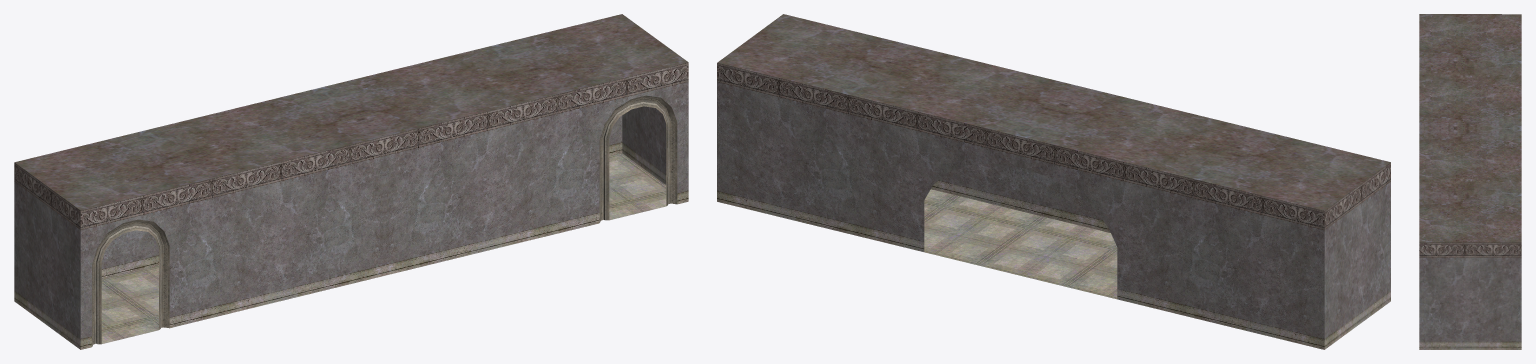
The model's file is mun_nboo_capitol_s01_r5_foyer2_mesh_foyer2.fbx.
The picture shows the model from 3 angles, left to right: view 1: azimuth 30°, elevation 25°; view 2: azimuth 150°, elevation 25°; view 3: azimuth 270°, elevation 25°; orthographic projection. The views are drawn at different scales.
Parts seen in each view (by area): view 1: mesh_node; view 2: mesh_node; view 3: mesh_node.
Part boxes in pixels (bbox=[...]): mesh_node: bbox=[14, 14, 688, 349]; mesh_node: bbox=[717, 14, 1390, 349]; mesh_node: bbox=[1419, 14, 1521, 349].
Size of the model in its own units: 17.38 by 3.81 by 3.29.
